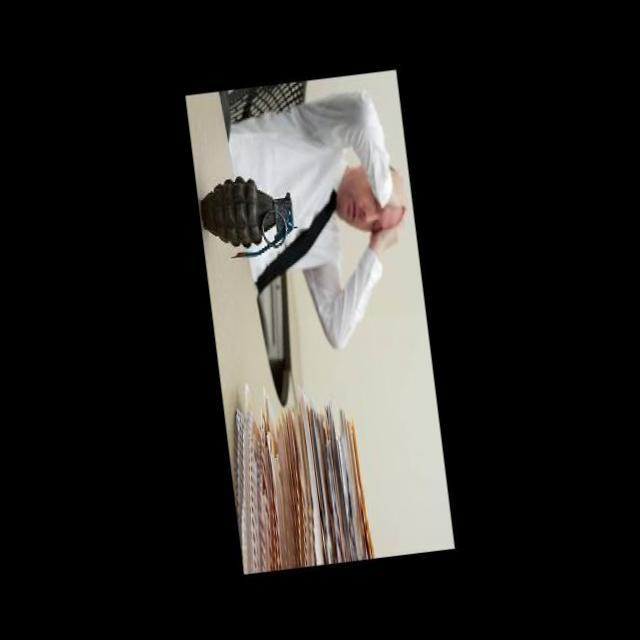grenade: (195, 162, 305, 266)
